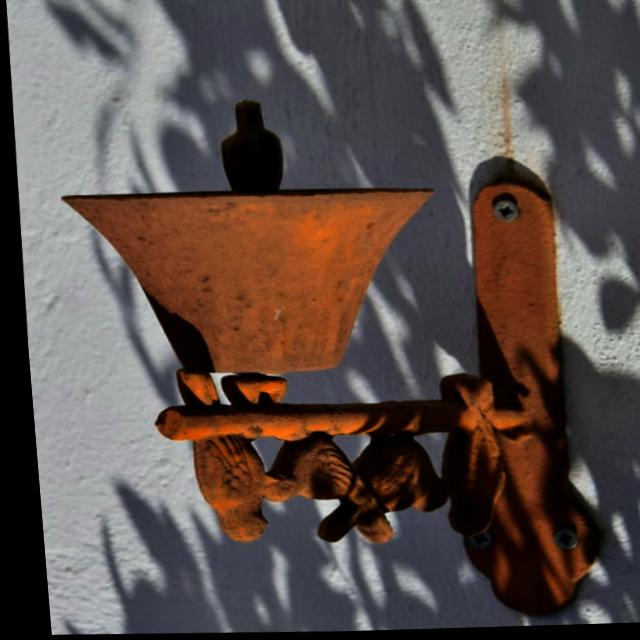corrosion: (41, 89, 606, 631)
